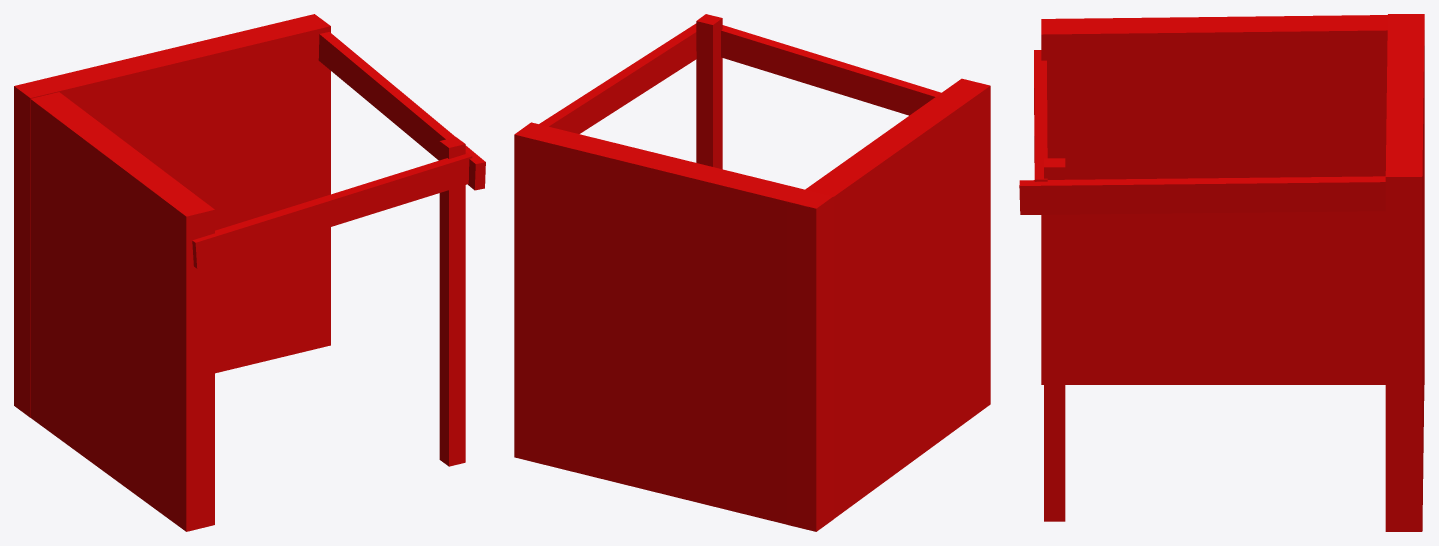
Rendered from SM_Bld_Junk_Shelter_03_Collision.fbx.
The picture shows the model from 3 angles, left to right: view 1: azimuth 30°, elevation 25°; view 2: azimuth 150°, elevation 25°; view 3: azimuth 270°, elevation 25°; orthographic projection. The views are drawn at different scales.
Parts seen in each view (by area): view 1: SM_Bld_Junk_Shelter_03_Collision; view 2: SM_Bld_Junk_Shelter_03_Collision; view 3: SM_Bld_Junk_Shelter_03_Collision.
Boxes of the visible parts, x1,y1,x2,y2 form: SM_Bld_Junk_Shelter_03_Collision: (14, 14, 485, 531); SM_Bld_Junk_Shelter_03_Collision: (514, 14, 990, 531); SM_Bld_Junk_Shelter_03_Collision: (1019, 14, 1424, 531).
Bounding box in the file's own units: 264 × 269 × 278.
